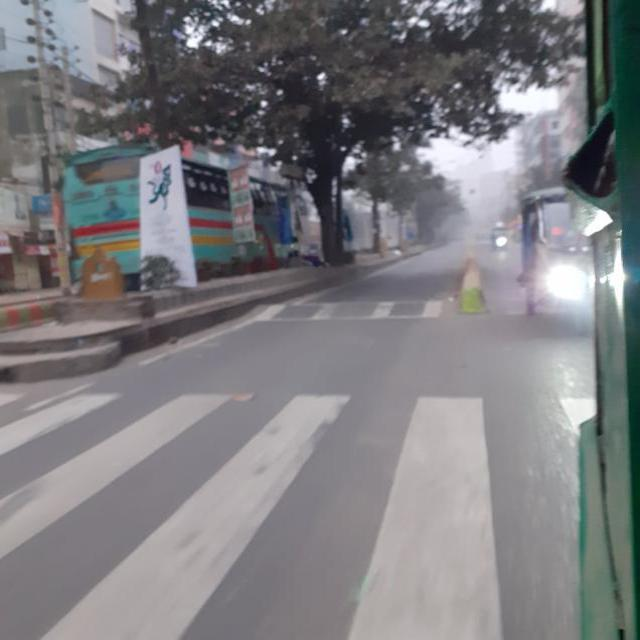Car: (518, 188, 590, 322), (488, 226, 509, 248)
Truck: (61, 142, 298, 272)
